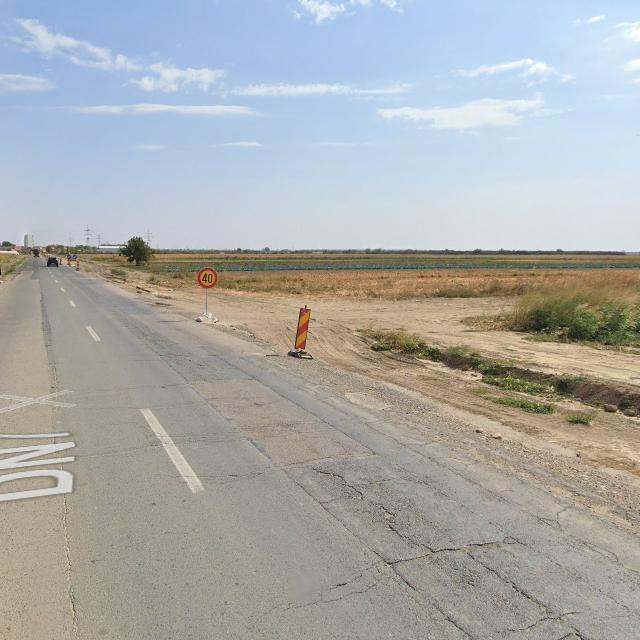forb_speed_over_40: (198, 268, 218, 289)
